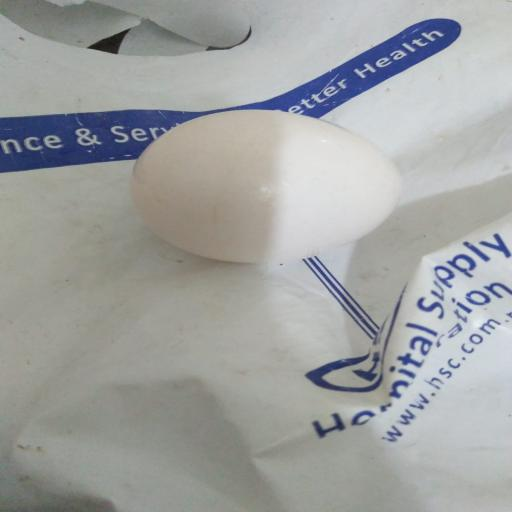telur: (131, 110, 401, 263)
